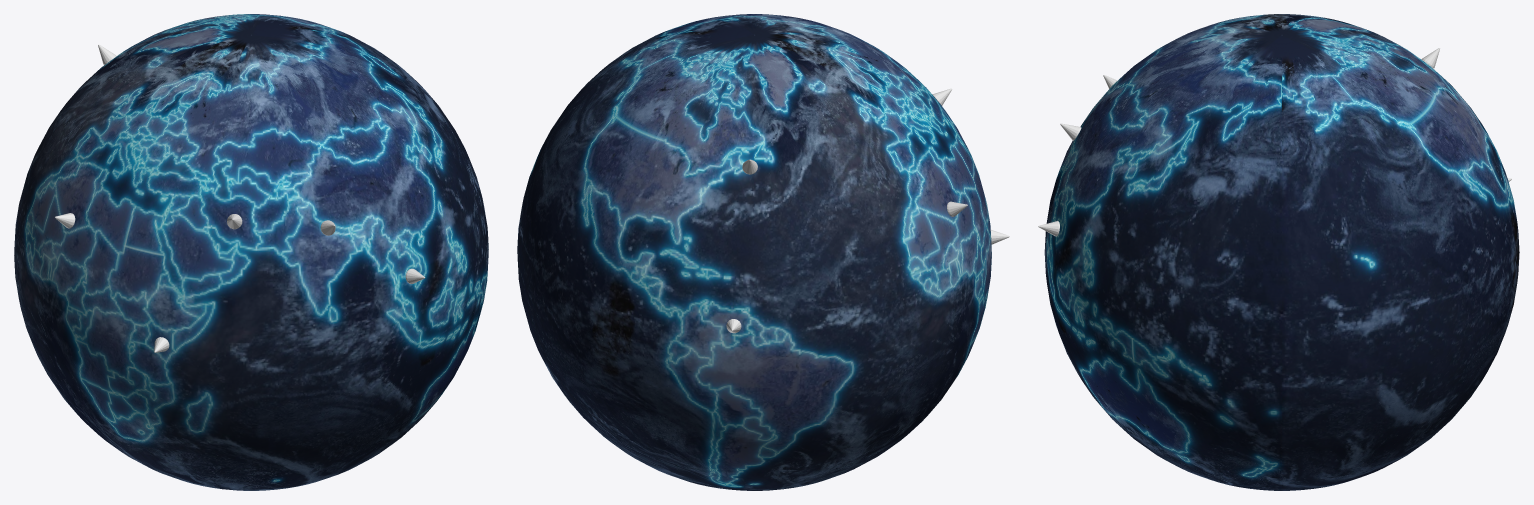
Rendered from Earth_0715.glb.
The picture shows the model from 3 angles, left to right: view 1: azimuth 30°, elevation 25°; view 2: azimuth 150°, elevation 25°; view 3: azimuth 270°, elevation 25°; orthographic projection.
Visible parts, largest first — view 1: Globe; view 2: Globe; view 3: Globe.
Boxes of the visible parts, left/top/right/bottom form: Globe: left=14, top=14, right=488, bottom=490; Globe: left=517, top=14, right=991, bottom=490; Globe: left=1044, top=14, right=1519, bottom=490.
Bounding box in the file's own units: 1.97 × 2 × 2.
Materials: 1 (1 with a texture image).
